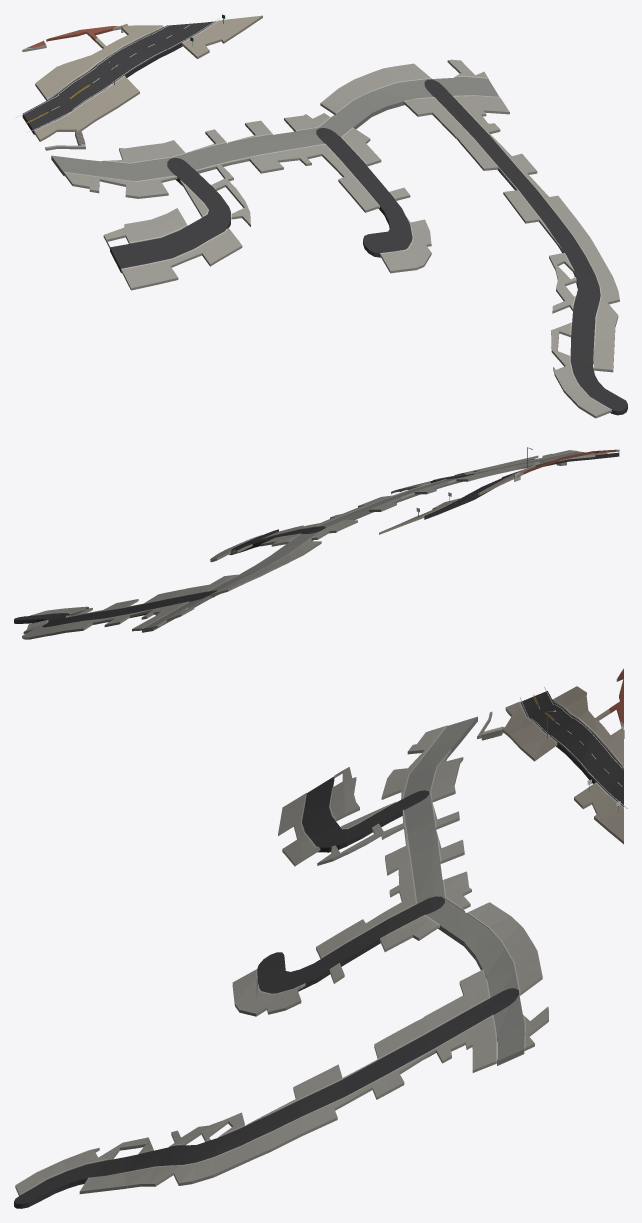
The picture shows the model from 3 angles, top to bottom: view 1: azimuth 30°, elevation 25°; view 2: azimuth 210°, elevation 25°; view 3: azimuth 270°, elevation 25°; orthographic projection. The views are drawn at different scales.
Size of the model in its own units: 150 by 84.18 by 140.
